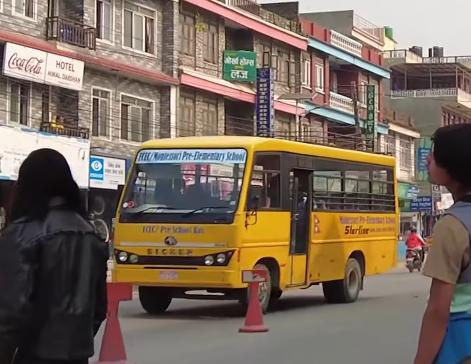school_bus: (110, 129, 406, 320)
